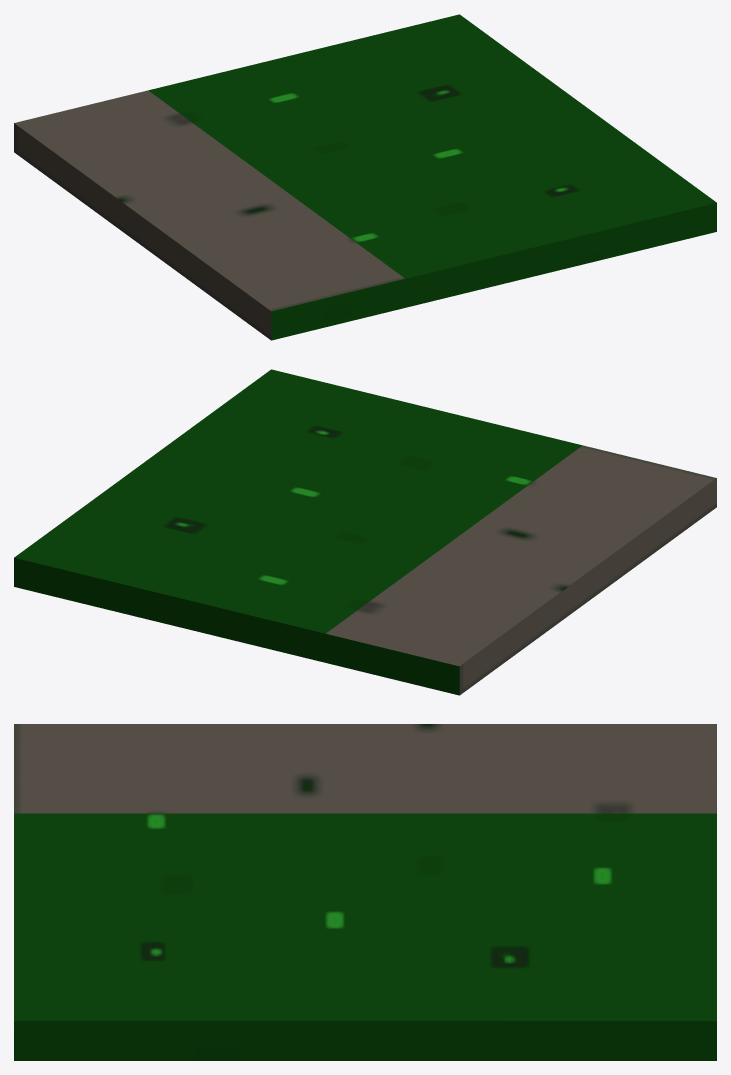
The model's file is sidewalk_8x8_00.glb.
3 renders of one model, top to bottom at view 1: azimuth 30°, elevation 25°; view 2: azimuth 150°, elevation 25°; view 3: azimuth 270°, elevation 25°, orthographic. The views are drawn at different scales.
Visible parts, largest first — view 1: sidewalk_8x8_00; view 2: sidewalk_8x8_00; view 3: sidewalk_8x8_00.
Boxes of the visible parts, box(x1,y1,x2,y2) form: sidewalk_8x8_00: box(14, 14, 716, 340); sidewalk_8x8_00: box(14, 369, 716, 695); sidewalk_8x8_00: box(14, 724, 716, 1060).
Size of what is drawn, in the model's own units: 8 by 0.5 by 8.
Materials: 1 (1 with a texture image).
